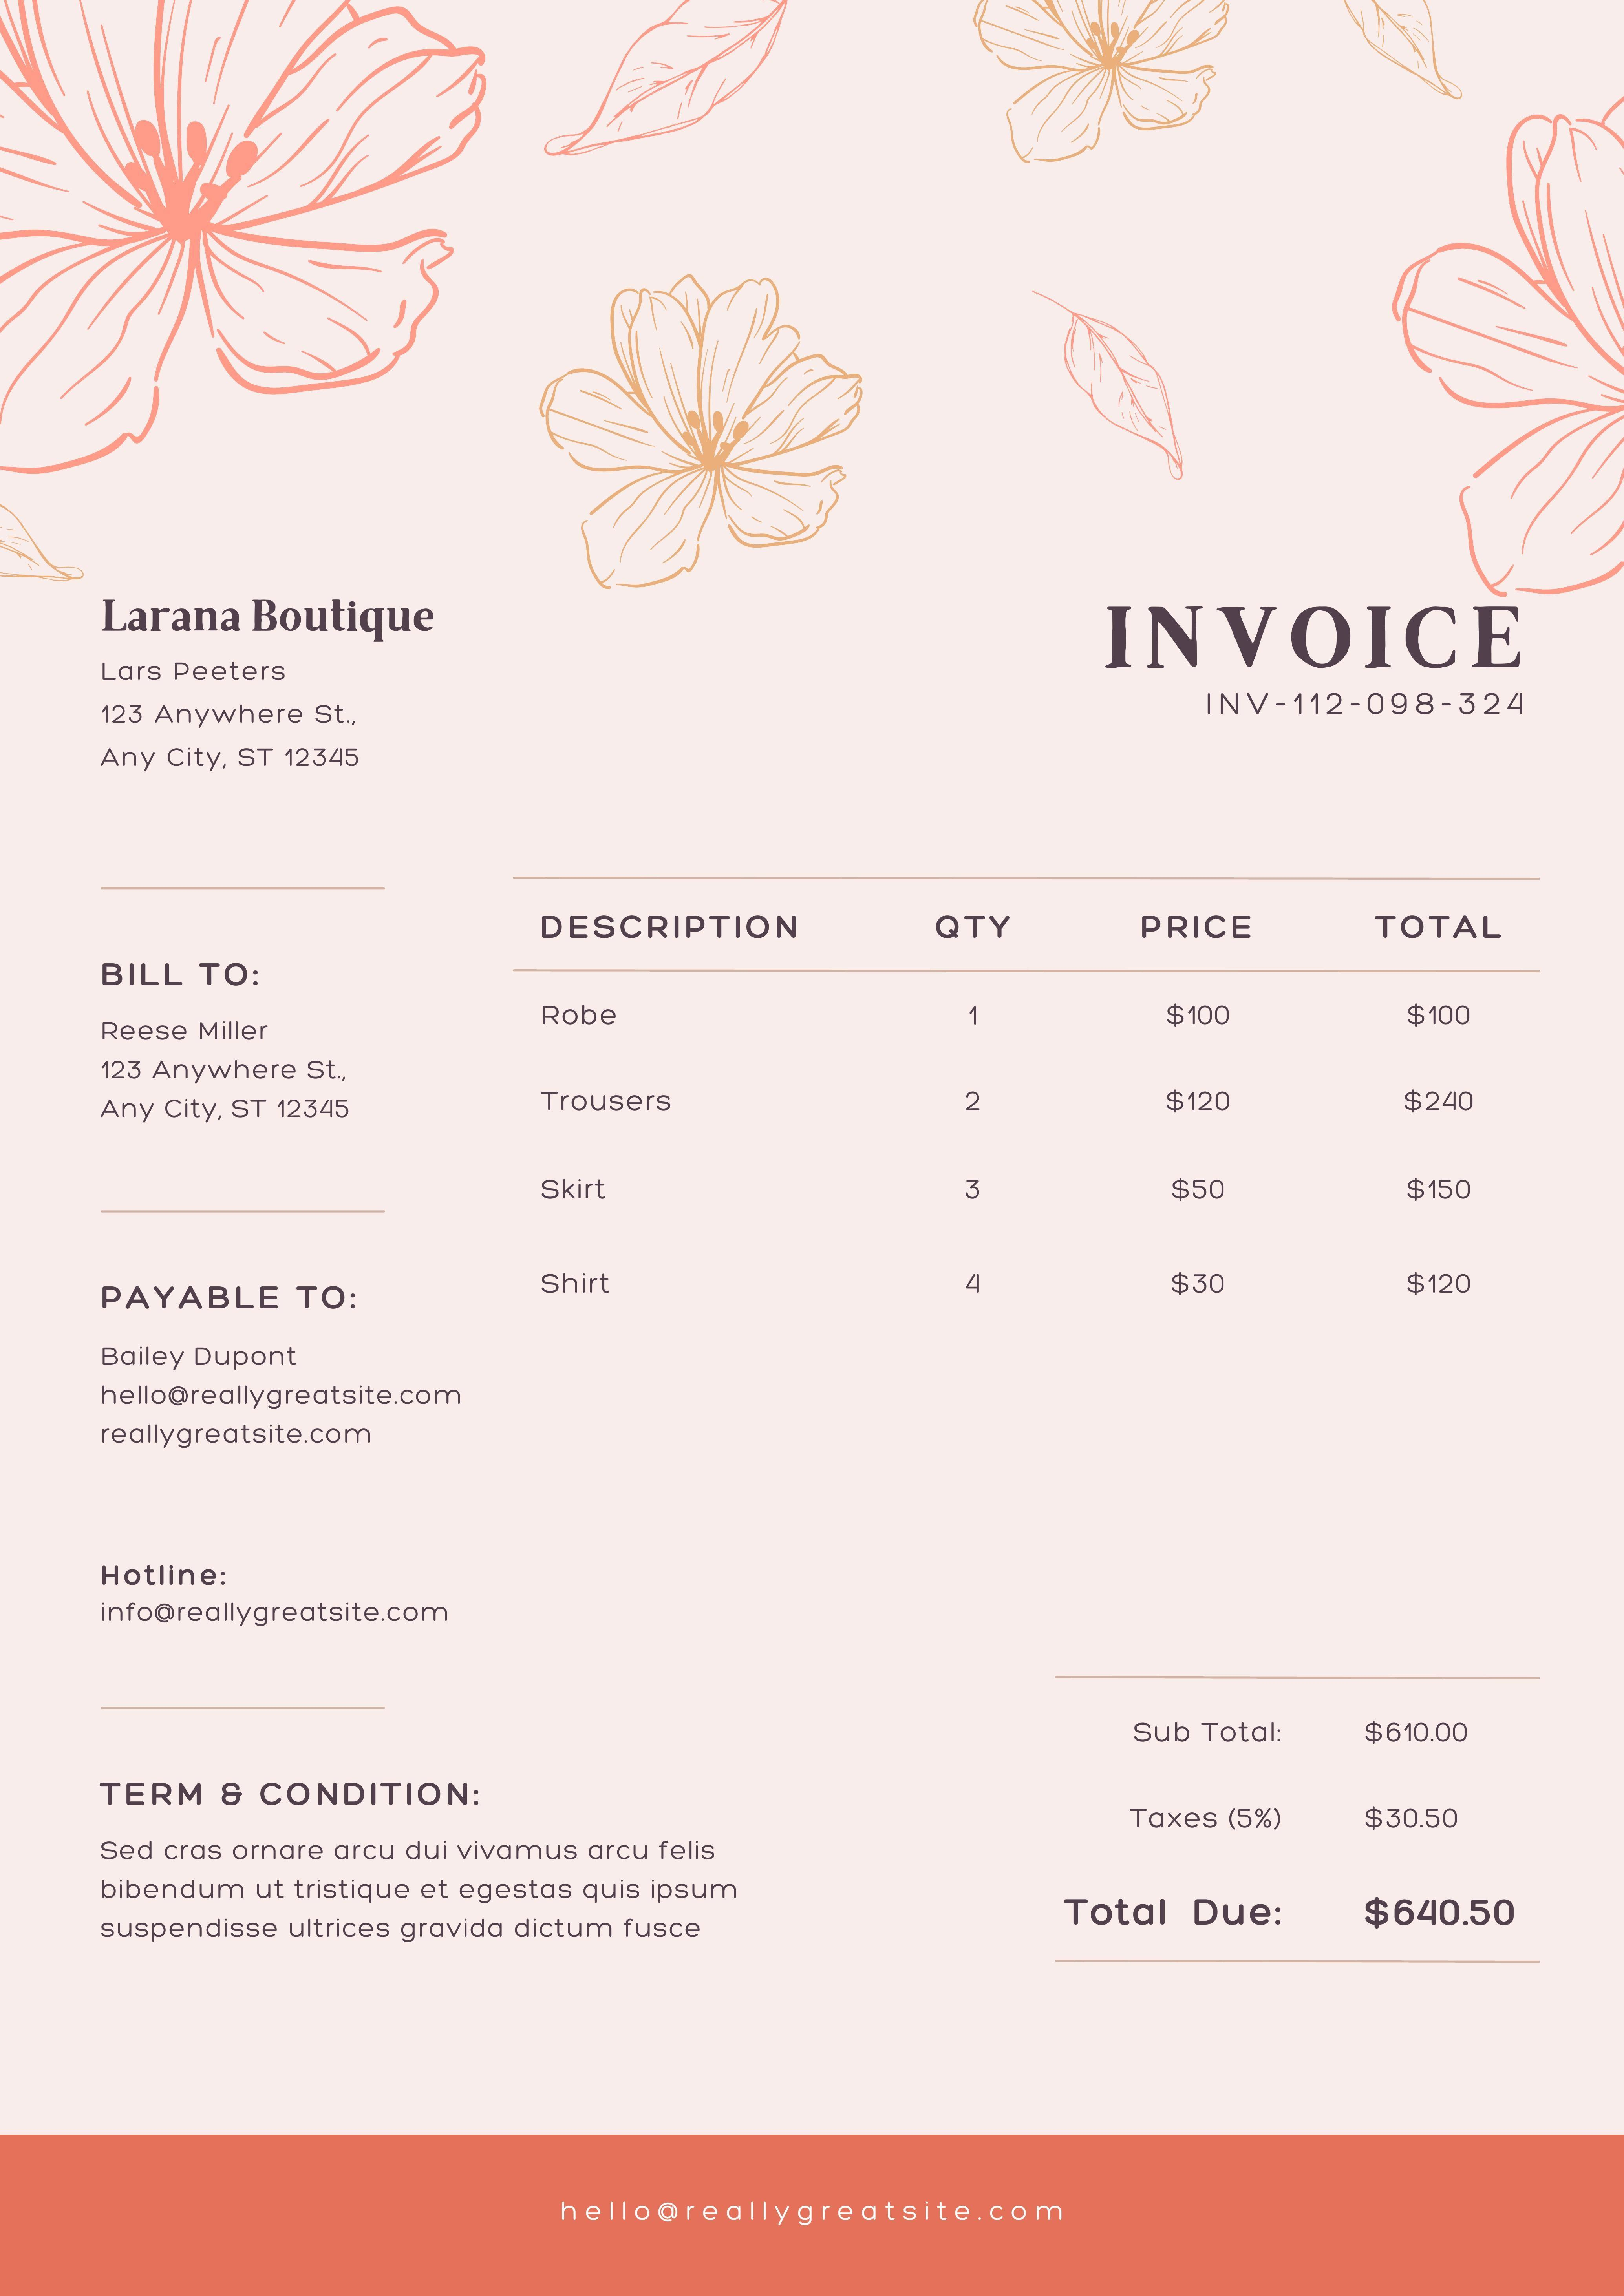ROI: (511, 892, 1555, 1309), (1046, 1711, 1534, 1962), (88, 1260, 475, 1453), (91, 603, 464, 789), (86, 954, 362, 1138), (1179, 675, 1540, 720)
